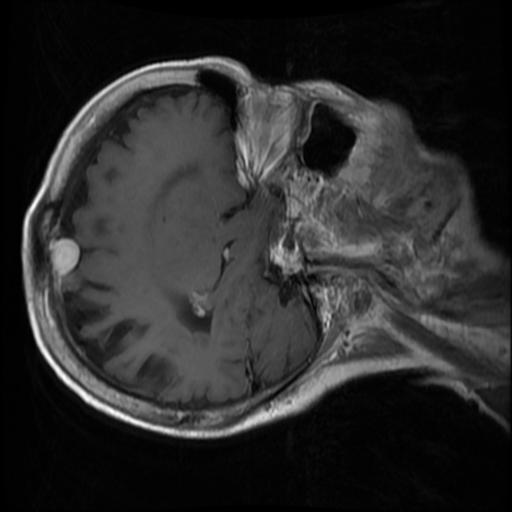meningioma: (47, 237, 80, 276)
